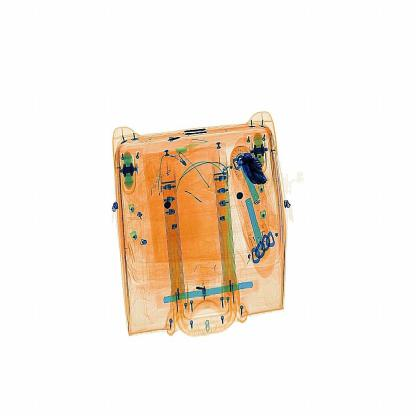scissors: (240, 144, 274, 194)
